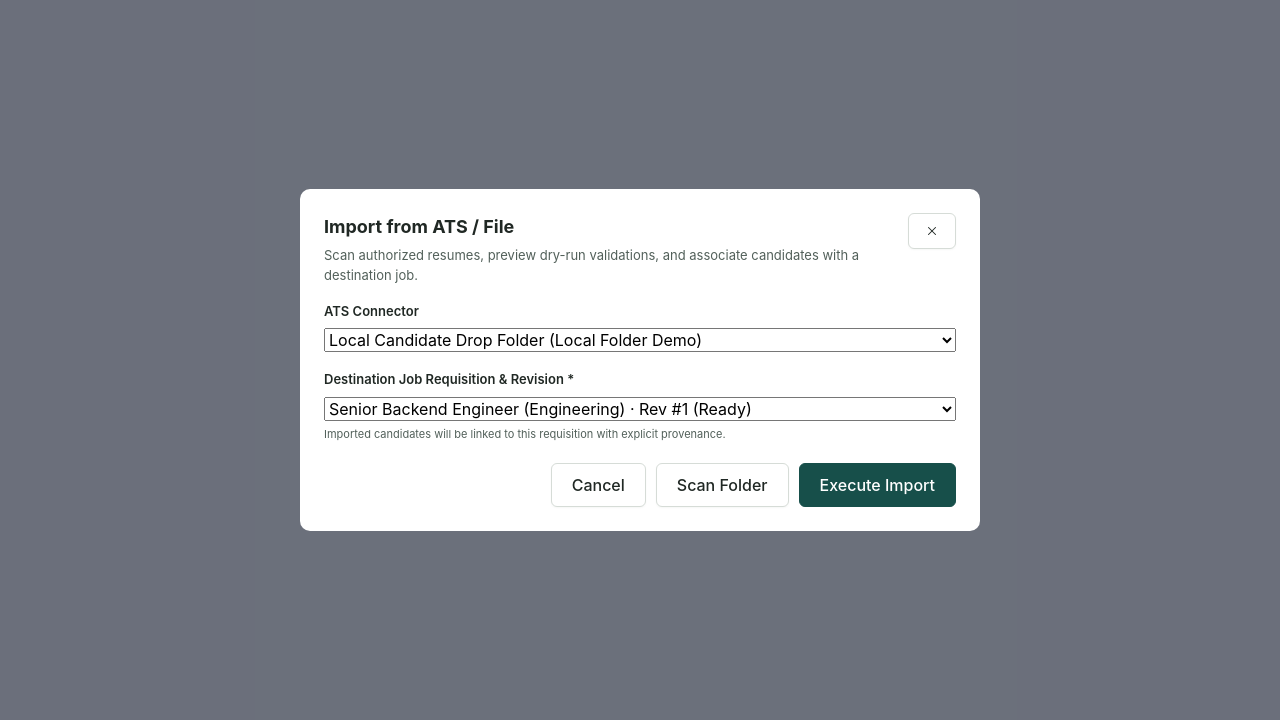
Scenario: Phase 3E.3: Local Folder ATS Demonstration Adapter Frontend Tests › executes folder dry-run scan and renders itemized preview table with metrics
The width and height of the screenshot is (1280, 720).
What coordinates should you click on to do the following:
click the button "Scan Folder"
I would click on:
 (722, 485)
Its box is [656,463,788,507].
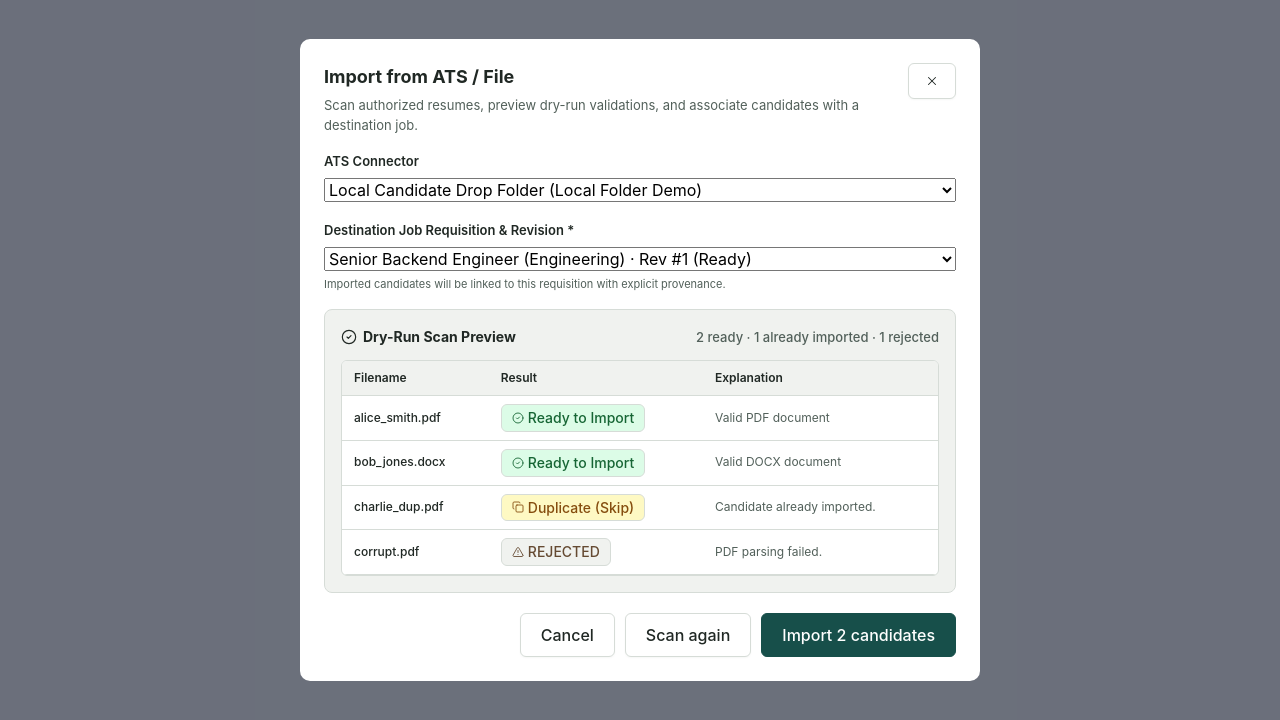
Check: the text "Dry-Run Scan Preview" is shown, box [363,326,516,348]
Check: the text "2 ready · 1 already imported · 1 rejected" is shown, box [696,327,939,347]
Check: the text "alice_smith.pdf" is shown, box [342,396,489,440]
